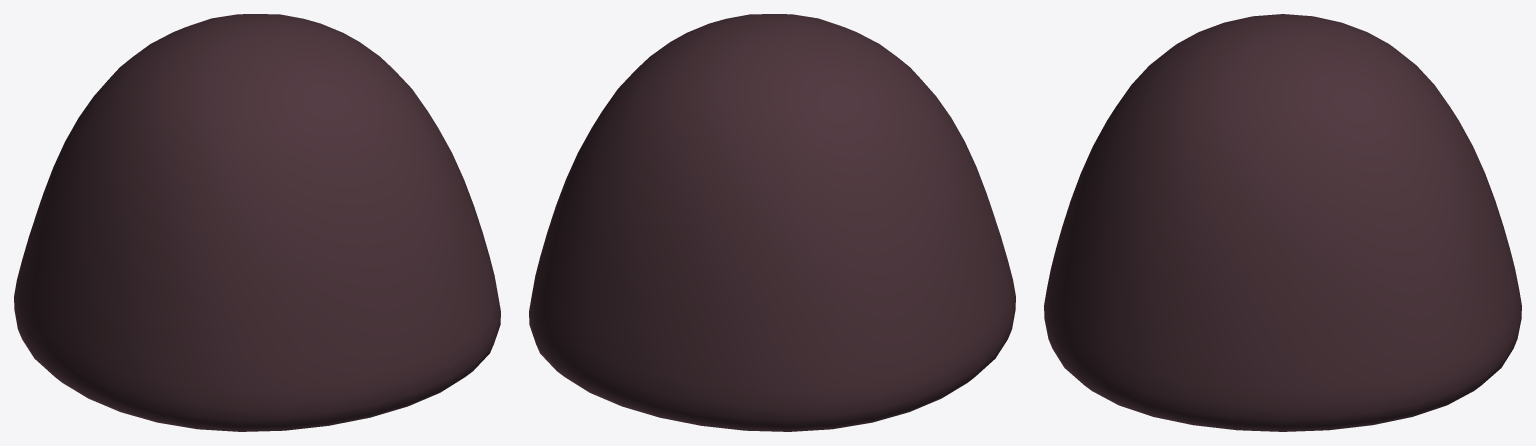
File: gummy-pi.glb
3 views of the same model, side by side, from view 1: azimuth 30°, elevation 25°; view 2: azimuth 150°, elevation 25°; view 3: azimuth 270°, elevation 25° (orthographic).
Parts seen in each view (by area): view 1: Cube.002; view 2: Cube.002; view 3: Cube.002.
Boxes of the visible parts, x1,y1,x2,y2 form: Cube.002: (14, 14, 500, 431); Cube.002: (529, 14, 1015, 431); Cube.002: (1044, 14, 1521, 431).
Bounding box in the file's own units: 4.91 × 3.65 × 4.91.
